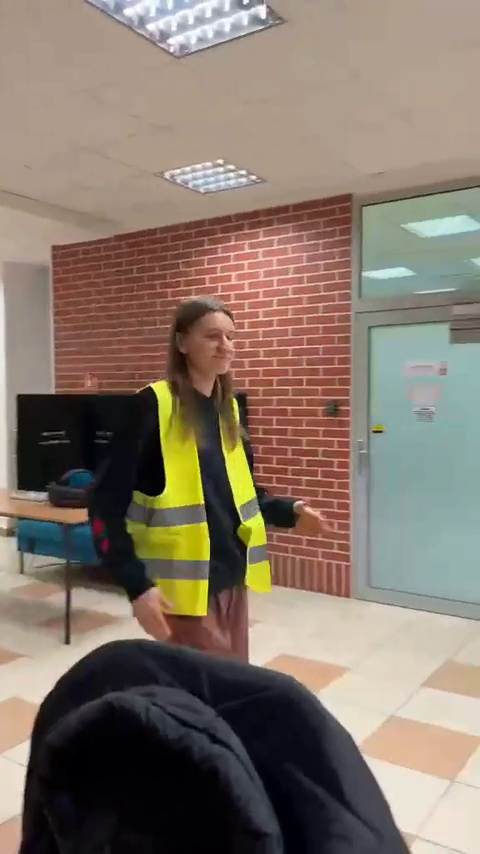vest: (103, 295, 301, 656)
